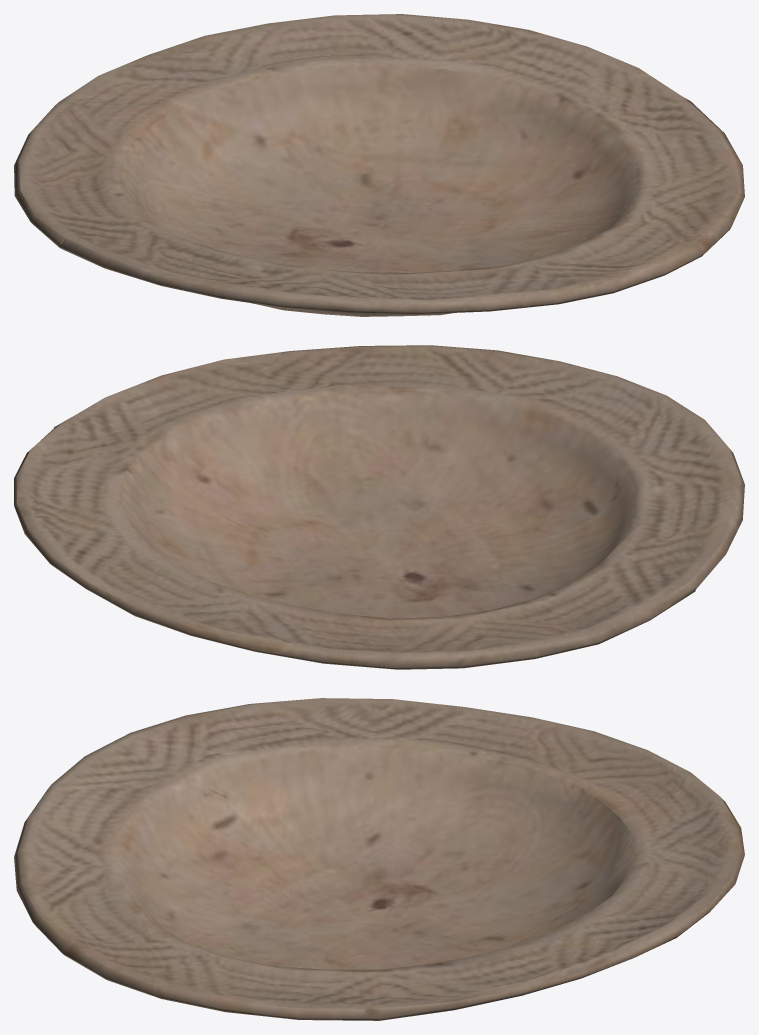
The model's file is plate.glb.
The picture shows the model from 3 angles, top to bottom: view 1: azimuth 30°, elevation 25°; view 2: azimuth 150°, elevation 25°; view 3: azimuth 270°, elevation 25°; orthographic projection. The views are drawn at different scales.
Visible parts, largest first — view 1: carved_wooden_plate; view 2: carved_wooden_plate; view 3: carved_wooden_plate.
Part boxes in pixels (left/top/right/bottom): carved_wooden_plate: left=14, top=14, right=744, bottom=316; carved_wooden_plate: left=14, top=345, right=744, bottom=669; carved_wooden_plate: left=14, top=698, right=744, bottom=1020.
Size of the model in its own units: 0.2721 by 0.0383 by 0.2689.
1 material, 1 textured.
